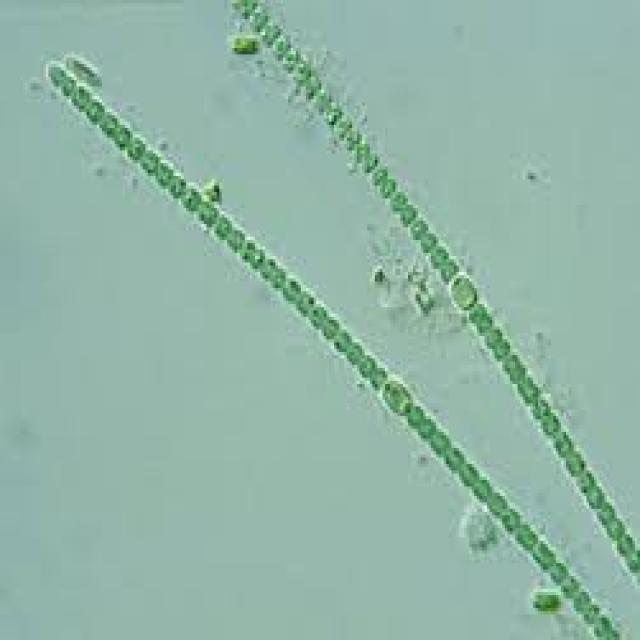Blue Green Algae: (484, 326, 512, 362), (263, 256, 288, 294), (242, 234, 265, 272), (181, 179, 204, 211), (197, 198, 220, 230), (112, 118, 133, 150), (518, 374, 540, 404), (245, 3, 265, 35), (431, 429, 451, 461), (505, 352, 525, 384), (212, 211, 234, 240), (84, 96, 105, 125), (140, 144, 161, 173), (344, 339, 365, 368), (469, 304, 490, 333), (308, 298, 329, 326), (321, 314, 342, 342), (69, 83, 89, 112), (153, 157, 173, 186), (334, 326, 352, 358), (518, 522, 538, 550), (533, 538, 553, 566), (99, 109, 120, 134), (163, 173, 184, 198), (283, 275, 301, 304), (296, 288, 314, 317), (418, 416, 436, 445), (556, 432, 574, 461), (568, 448, 586, 477), (607, 515, 627, 541), (472, 474, 492, 499), (270, 35, 291, 58), (262, 19, 280, 45), (301, 70, 319, 96), (431, 243, 449, 269), (125, 134, 143, 160), (227, 227, 245, 253), (586, 486, 604, 512), (410, 218, 431, 240), (502, 506, 520, 531), (487, 490, 507, 512), (321, 99, 339, 122), (360, 355, 378, 378), (599, 499, 617, 522), (446, 445, 462, 470), (380, 176, 398, 198), (398, 202, 416, 224), (533, 397, 551, 419), (408, 403, 423, 429), (579, 467, 594, 490), (459, 464, 477, 483), (543, 413, 561, 432), (421, 230, 438, 250)
